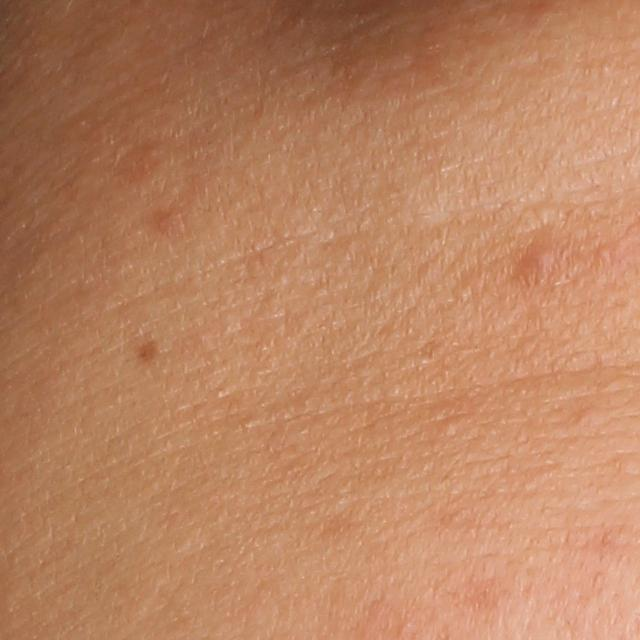comedo: (442, 420, 459, 440), (596, 243, 613, 262)
papule: (513, 231, 570, 284)
